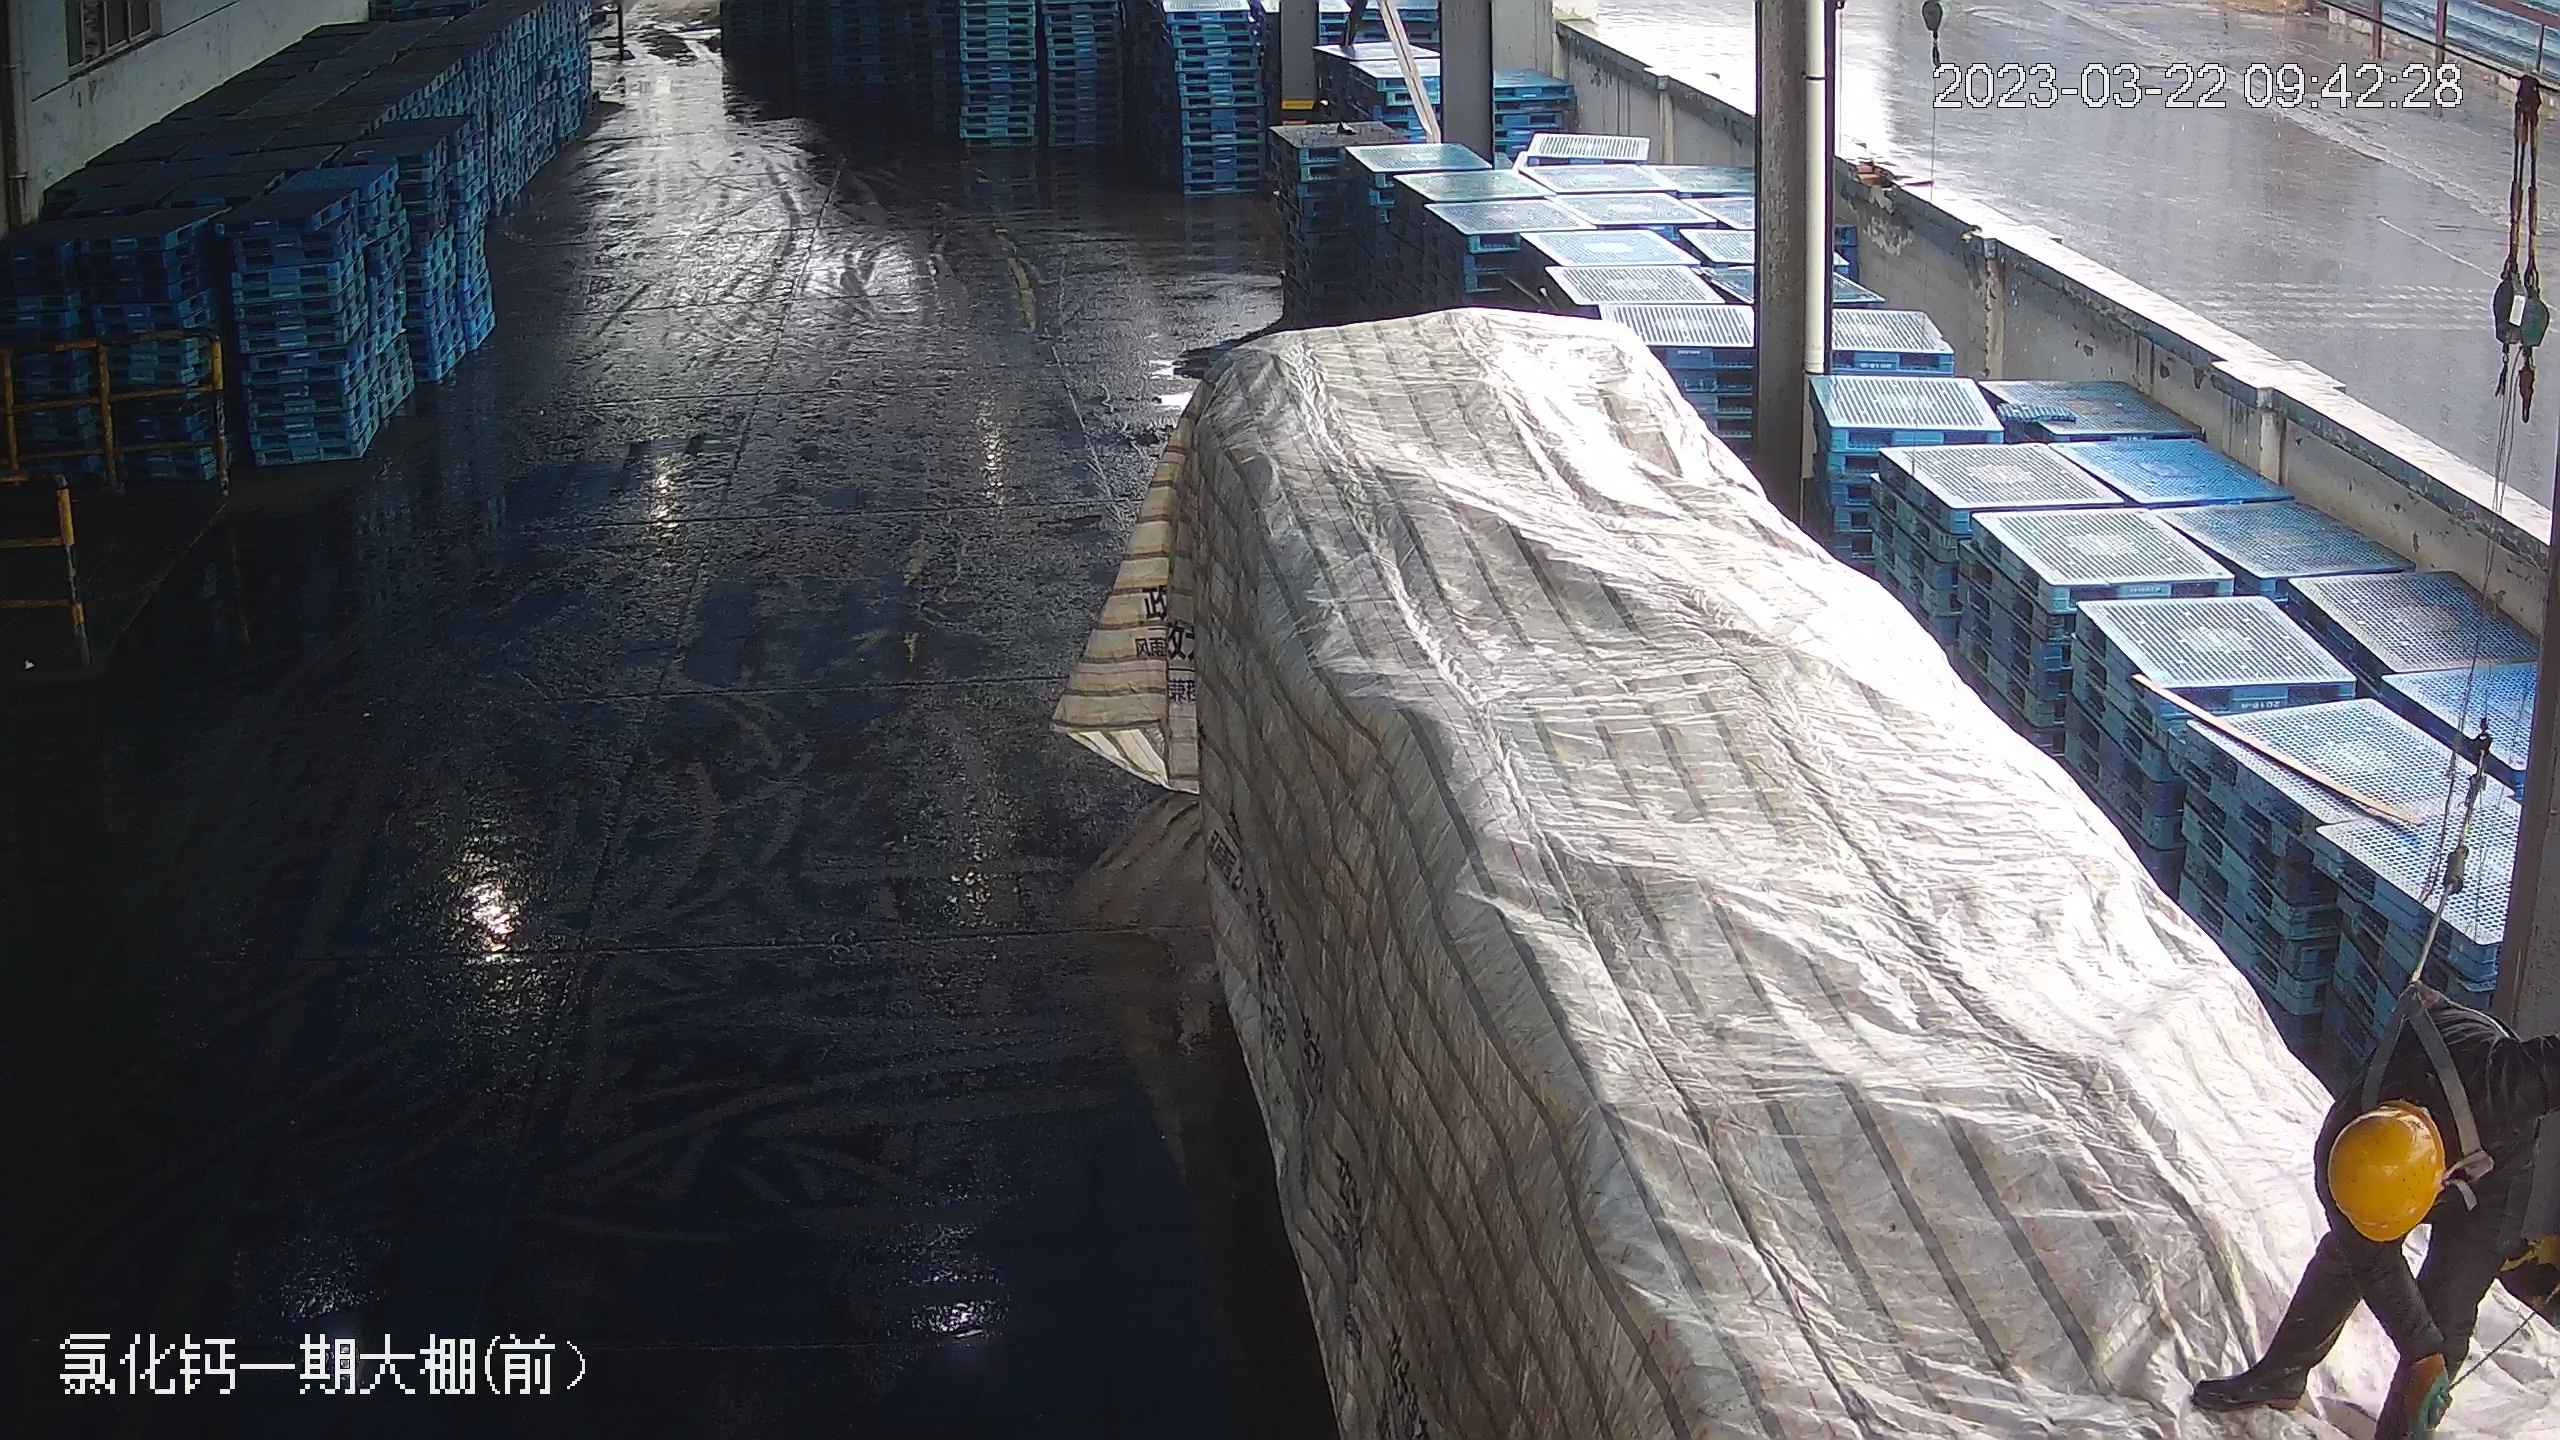belt: (2370, 981, 2515, 1194)
helmet: (2323, 1105, 2447, 1245)
people: (2225, 1078, 2486, 1426)
truck: (1089, 105, 2547, 1440)
